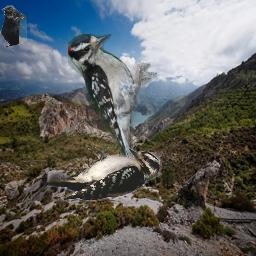Crow: (0, 5, 27, 47)
Woodpecker: (68, 34, 157, 173), (42, 146, 168, 205)
